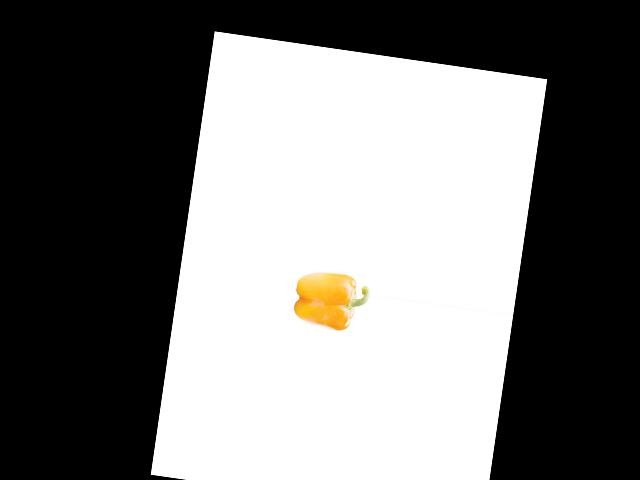bell_pepper: (289, 261, 372, 339)
